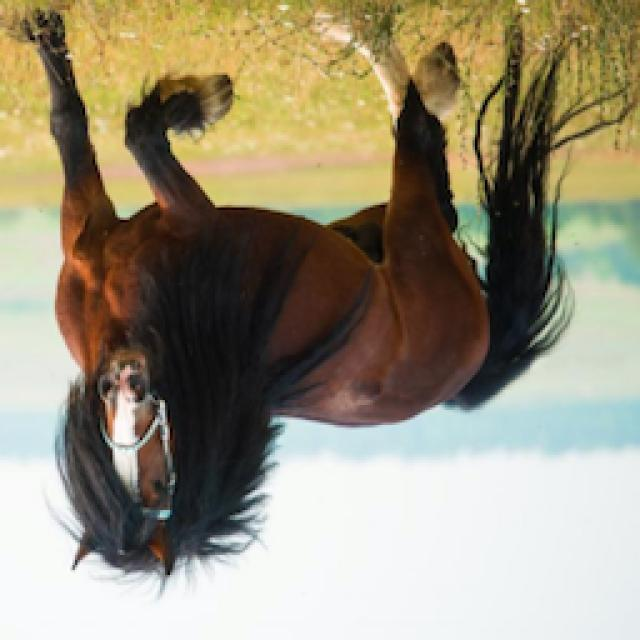Horse: (7, 5, 635, 598)
